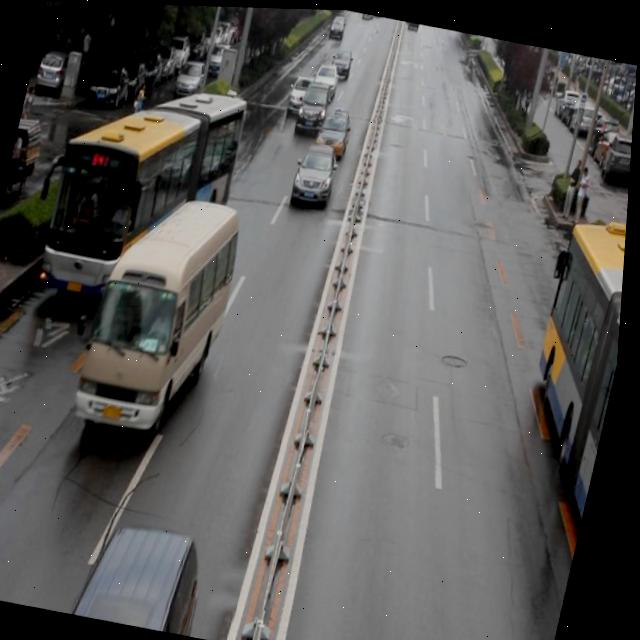car: (77, 517, 221, 636), (116, 106, 199, 183), (291, 137, 339, 206), (204, 88, 250, 147), (314, 102, 355, 158), (295, 80, 333, 130), (287, 72, 321, 116)
truck: (80, 192, 251, 443)
van: (38, 73, 255, 312), (491, 218, 629, 591)
